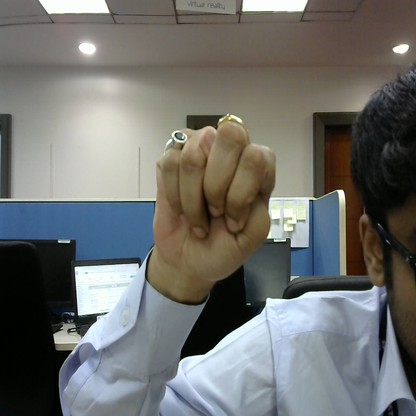n: (142, 105, 286, 284)
